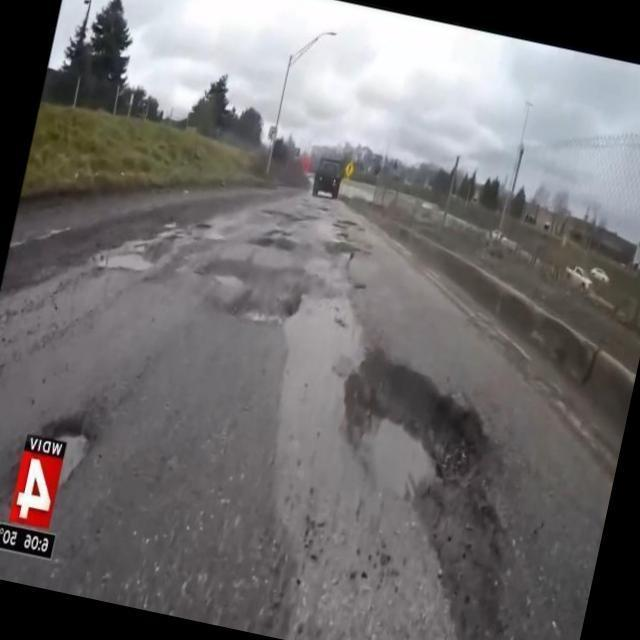Pothole: (347, 367, 468, 494), (220, 294, 291, 319), (97, 246, 158, 272)
